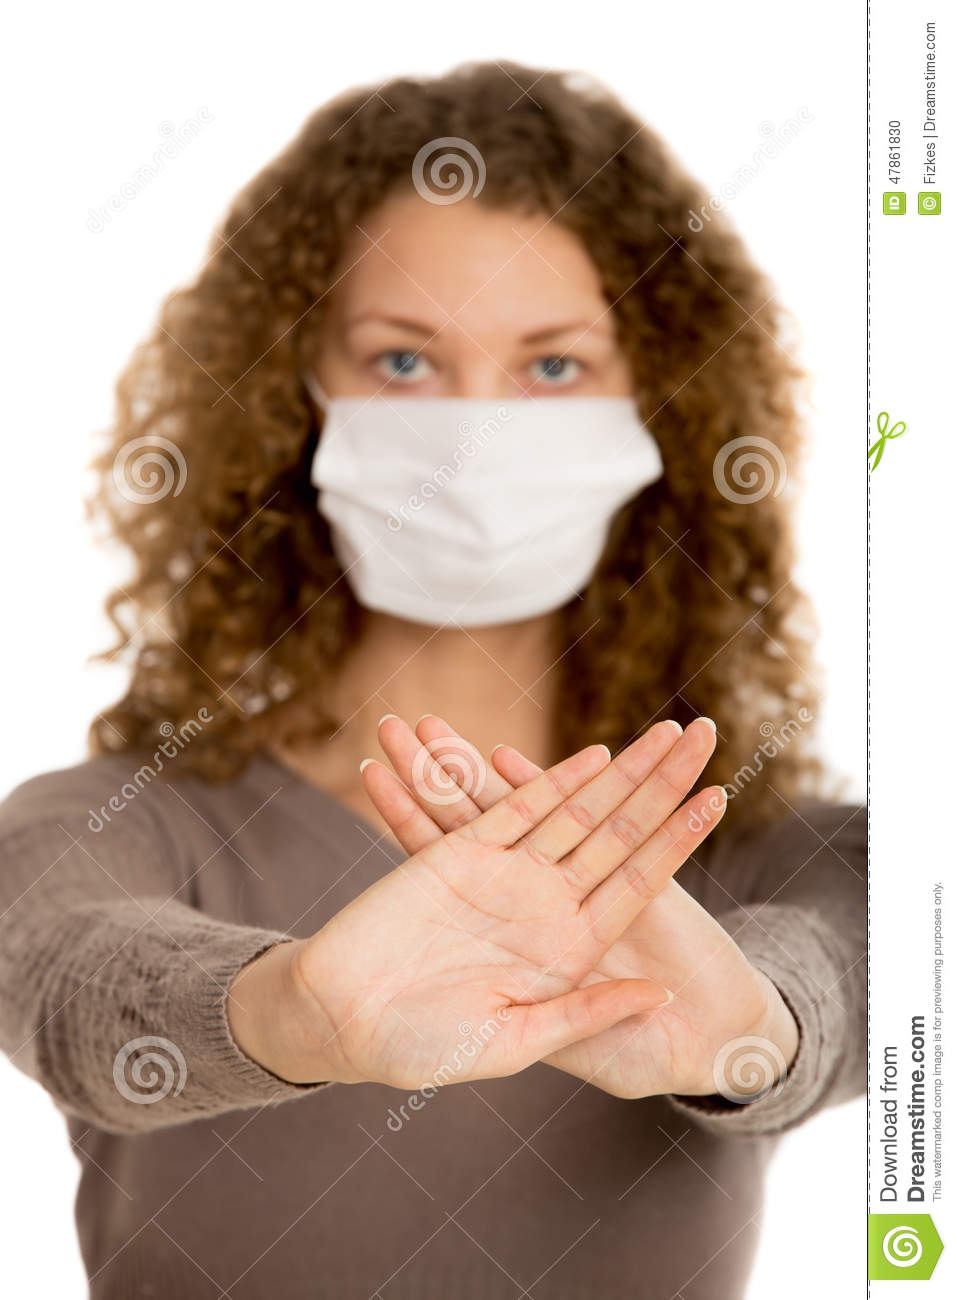mask: (316, 395, 670, 645)
